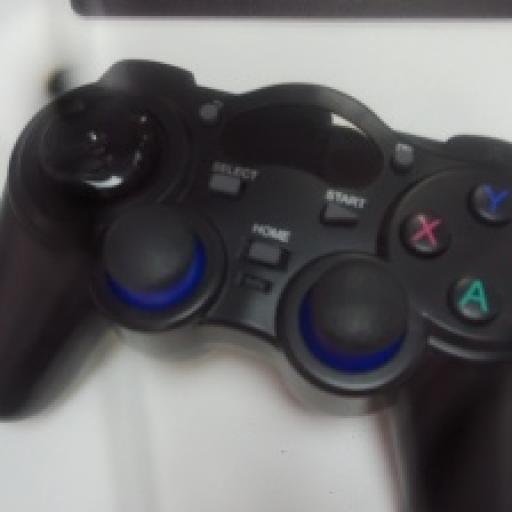game pad: (0, 59, 510, 510)
